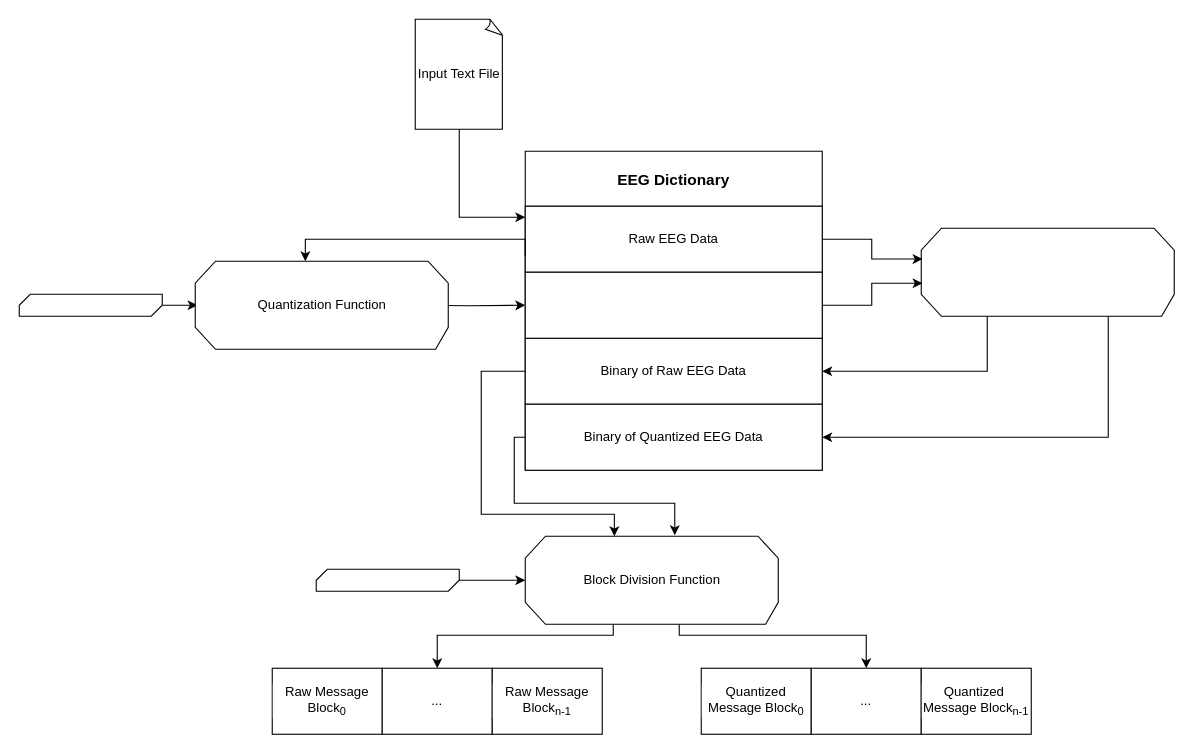
The diagram is 1194 pixels wide and 754 high, and some of its shapes have lost their labels. The shapes that lost their labels are listed below. From the top down, each one's centre as x and y in pixels, then its label:
At pixel 1047 271: "Decima l to Binary Conversion Function".
At pixel 90 304: "Quantization Level".
At pixel 673 304: "Quantized EEG Data".
At pixel 387 579: "Block Size (bits)".
